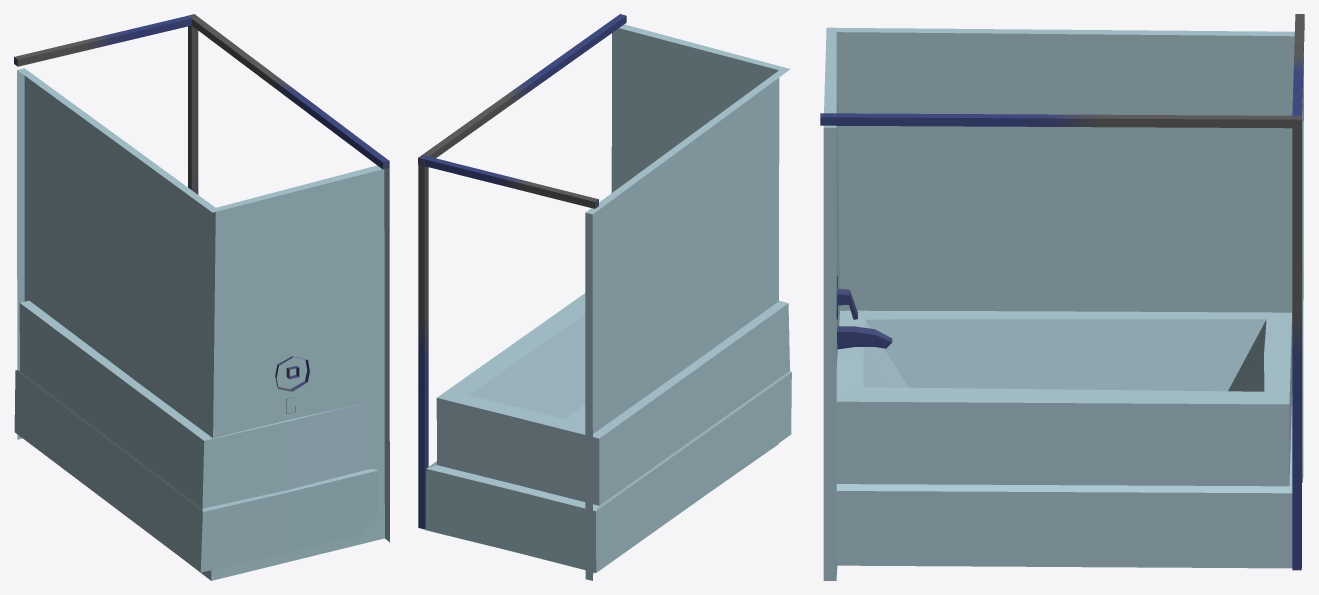
The model's file is Bathroom_Bath.fbx.
The picture shows the model from 3 angles, left to right: view 1: azimuth 30°, elevation 25°; view 2: azimuth 150°, elevation 25°; view 3: azimuth 270°, elevation 25°; orthographic projection. The views are drawn at different scales.
Parts seen in each view (by area): view 1: Bathroom_Bath; view 2: Bathroom_Bath; view 3: Bathroom_Bath.
Boxes of the visible parts, left/top/right/bottom form: Bathroom_Bath: left=14, top=14, right=389, bottom=580; Bathroom_Bath: left=418, top=14, right=791, bottom=580; Bathroom_Bath: left=820, top=14, right=1304, bottom=580.
Size of the model in its own units: 180 by 359 by 339.
